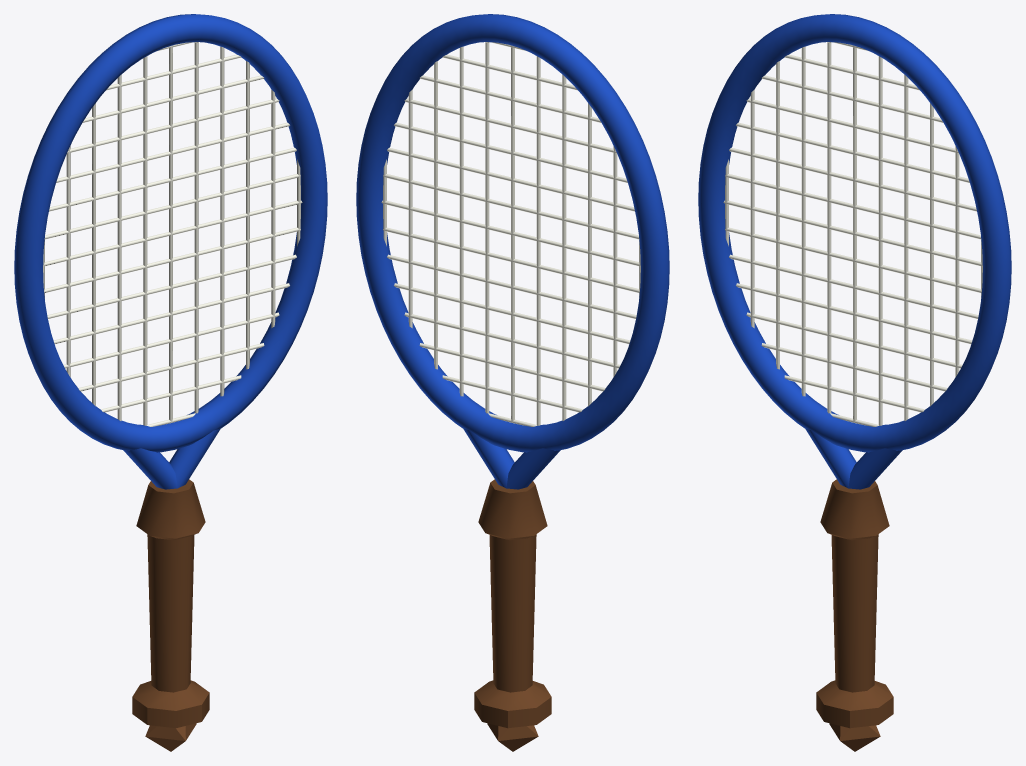
The model's file is raqueta.glb.
3 renders of one model, left to right at view 1: azimuth 30°, elevation 25°; view 2: azimuth 150°, elevation 25°; view 3: azimuth 330°, elevation 25°, orthographic.
Visible parts, largest first — view 1: Aro, Cordaje, Mango, Garganta; view 2: Aro, Cordaje, Mango, Garganta; view 3: Aro, Cordaje, Mango, Garganta.
Boxes of the visible parts, x1,y1,x2,y2 form: Aro: [14, 14, 327, 452]; Cordaje: [43, 42, 302, 426]; Mango: [132, 479, 209, 751]; Garganta: [123, 428, 220, 489]; Aro: [356, 14, 669, 452]; Cordaje: [381, 42, 640, 426]; Mango: [474, 479, 551, 751]; Garganta: [463, 428, 560, 489]; Aro: [698, 14, 1011, 452]; Cordaje: [723, 42, 982, 426]; Mango: [816, 479, 893, 751]; Garganta: [805, 428, 902, 489].
Size of the model in its own units: 0.544 by 1.23 by 0.1097.
